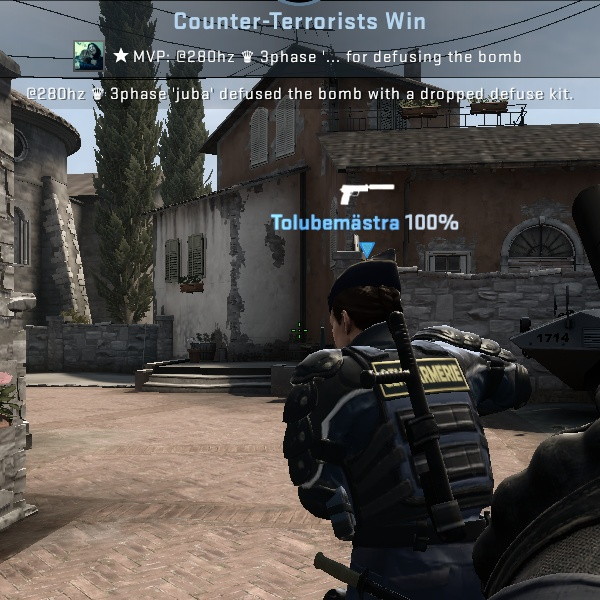ct_body: (265, 265, 521, 582)
ct_head: (318, 254, 423, 357)
